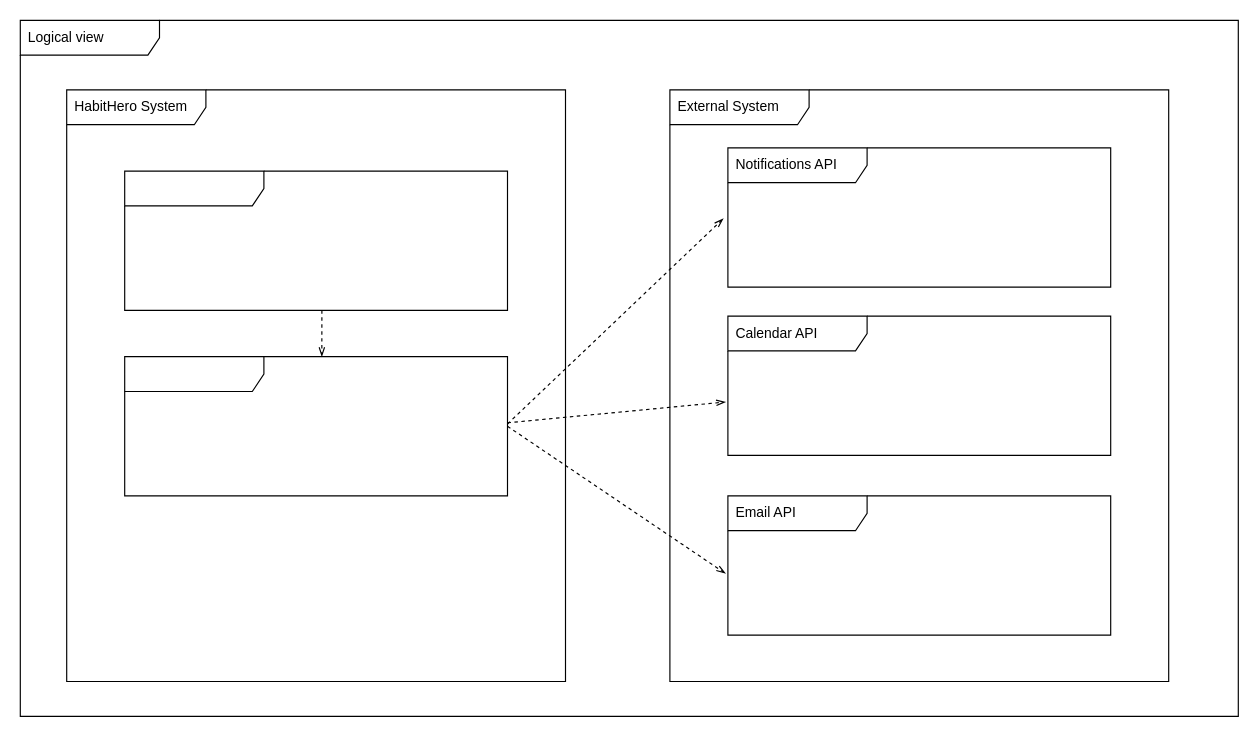
This 1259x737 diagram has some shape labels left out. The shapes that lost their labels are listed below. From the top down, each one's centre as x and y in pixels, then its label:
At point (315, 240): "HabitHero UI".
At point (315, 426): "HabitHero Logic".
